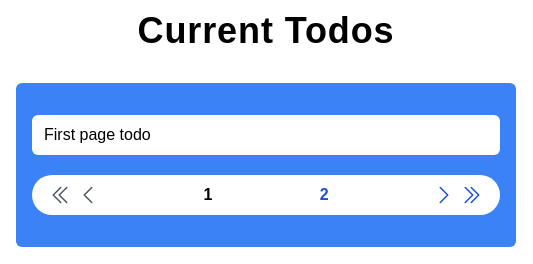
Scenario: will render the pagination › will change the todo list when clicking the page number button
The width and height of the screenshot is (533, 264).
Click the button named "page 2". click: {"x": 324, "y": 194}
box: [320,186,329,203]
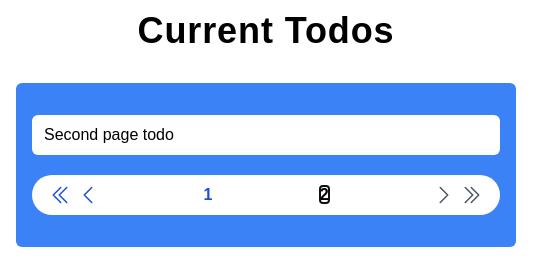
Check: the link "Second page todo" is shown, box [32,115,500,155]
